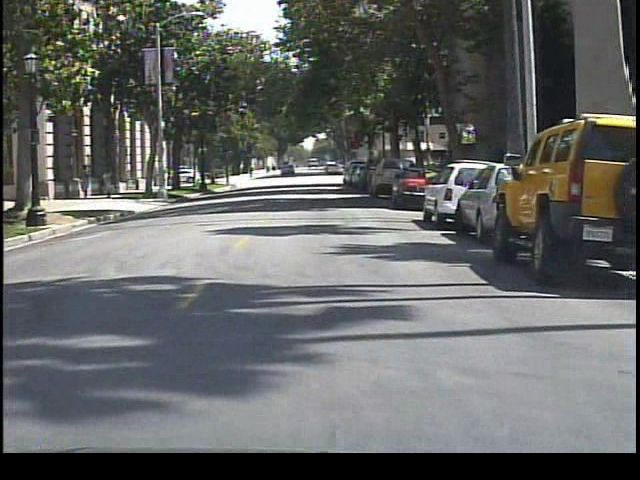person: (98, 162, 122, 199), (75, 161, 96, 203)
